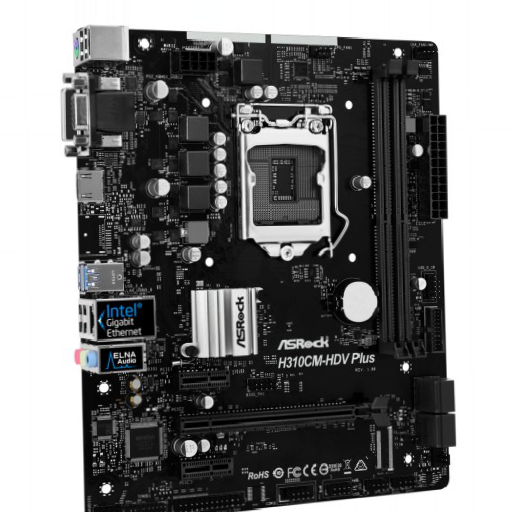CPU: (234, 103, 333, 262)
GPU: (181, 395, 390, 438)
MOTHERBOARD: (71, 27, 452, 510)
RAM: (372, 60, 429, 361)
